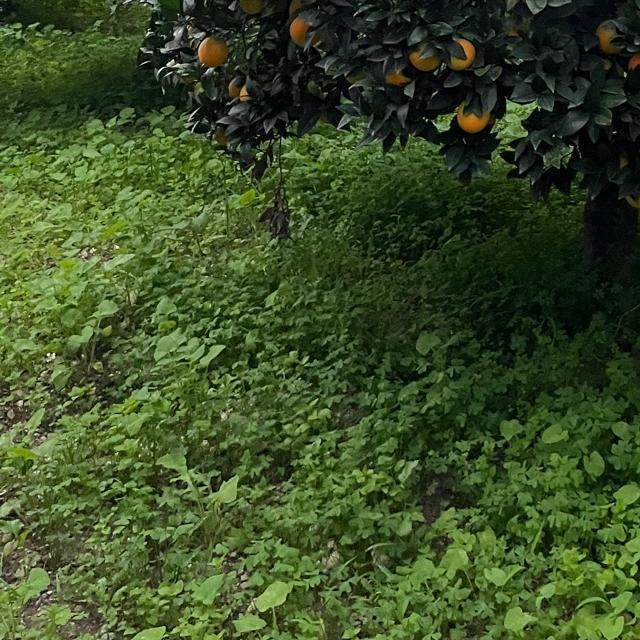orange: (457, 99, 491, 131), (197, 32, 229, 66), (595, 20, 621, 56), (446, 37, 476, 67), (408, 41, 440, 69), (289, 13, 313, 43), (288, 14, 310, 42), (226, 76, 250, 100), (624, 49, 640, 83), (148, 0, 184, 14), (237, 0, 267, 15), (384, 68, 408, 84)
